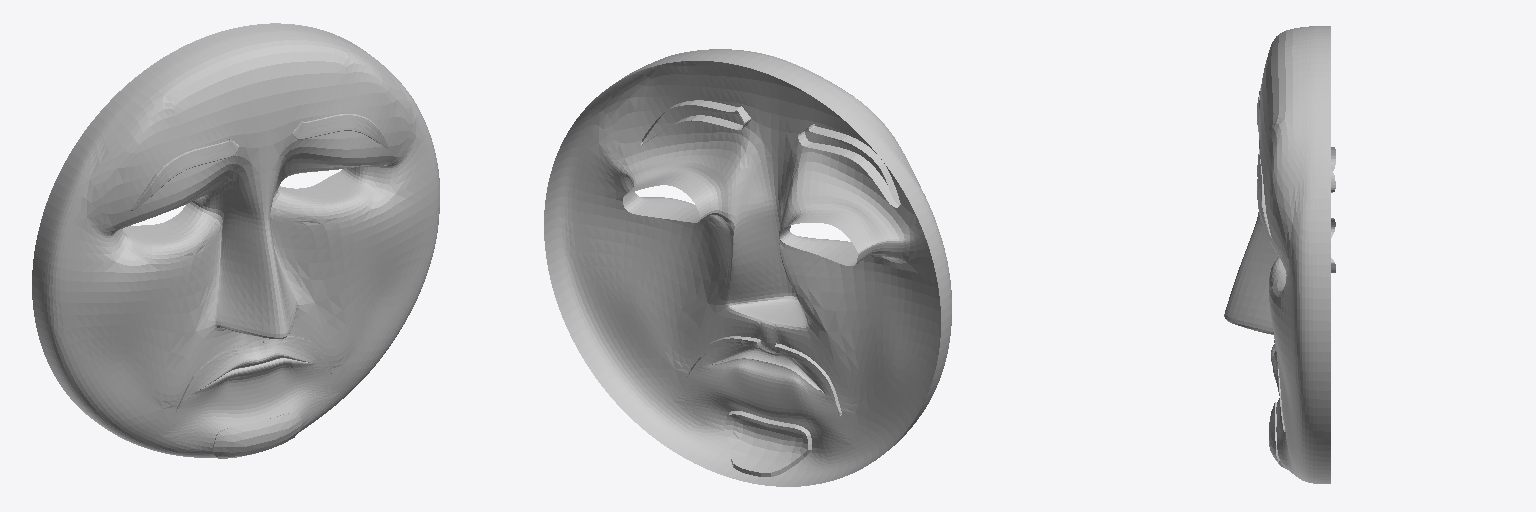
Rendered from Tired.obj.
The picture shows the model from 3 angles: view 1: azimuth 30°, elevation 25°; view 2: azimuth 150°, elevation 25°; view 3: azimuth 270°, elevation 25°; orthographic projection.
Visible parts, largest first — view 1: Circle.022_Circle.036; view 2: Circle.022_Circle.036; view 3: Circle.022_Circle.036.
Part boxes in pixels (bbox=[...]): Circle.022_Circle.036: bbox=[32, 23, 439, 458]; Circle.022_Circle.036: bbox=[544, 49, 951, 486]; Circle.022_Circle.036: bbox=[1224, 26, 1335, 483].
Size of the model in its own units: 50.64 by 50.76 by 12.29.